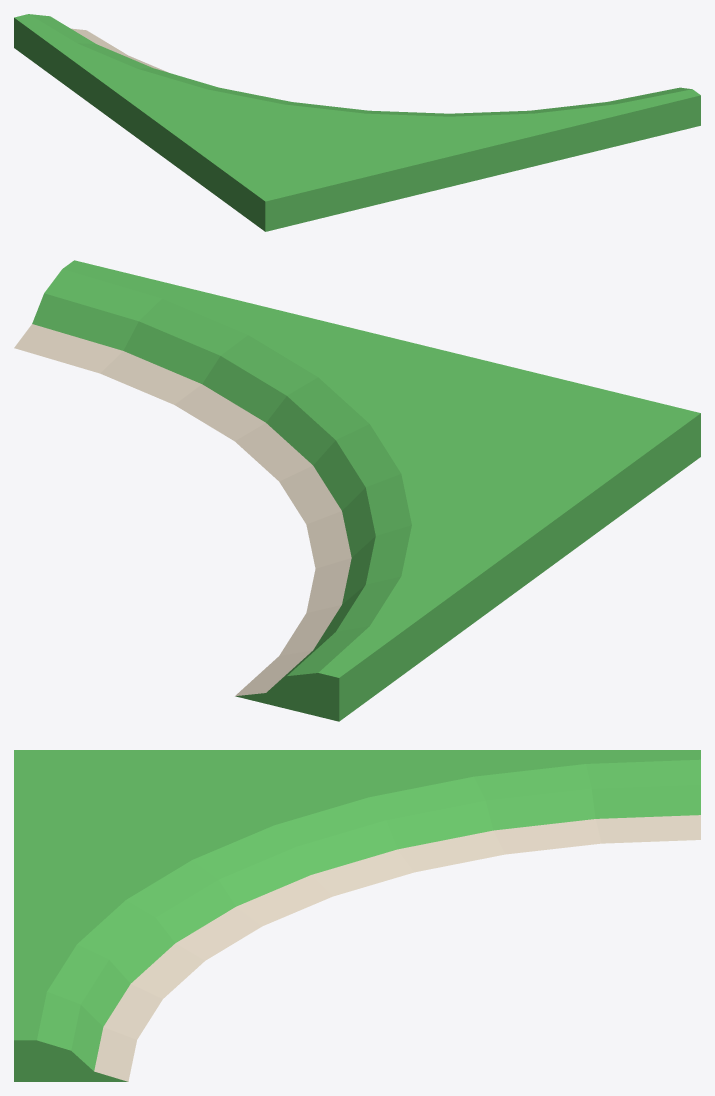
Rendered from Path_Corner_Outer_3x3.glb.
3 views of the same model, one above another, from view 1: azimuth 30°, elevation 25°; view 2: azimuth 150°, elevation 25°; view 3: azimuth 270°, elevation 25° (orthographic). The views are drawn at different scales.
Visible parts, largest first — view 1: object1; view 2: object1; view 3: object1.
Part boxes in pixels (x1=…): object1: x1=14, y1=14, x2=700, y2=231; object1: x1=14, y1=260, x2=700, y2=721; object1: x1=14, y1=750, x2=700, y2=1081.
Size of the model in its own units: 3 by 0.2 by 3.
